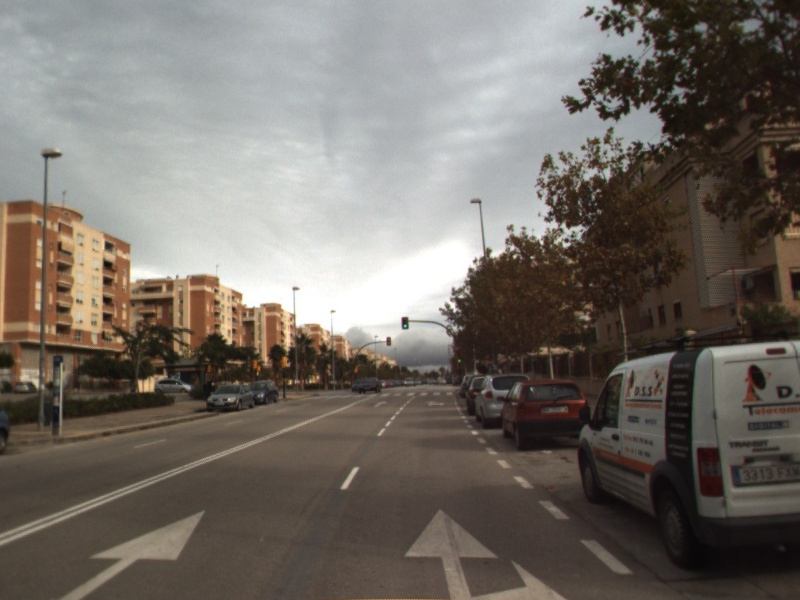STRAIGHT: (52, 508, 209, 600), (372, 399, 389, 409)
STRAIGHT_RIGHT: (401, 506, 571, 600), (423, 398, 448, 408)
